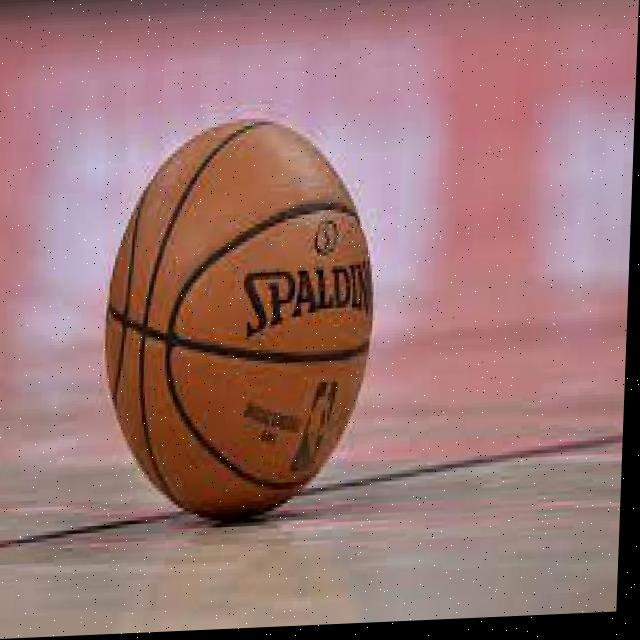Basketball: (99, 115, 383, 522)
